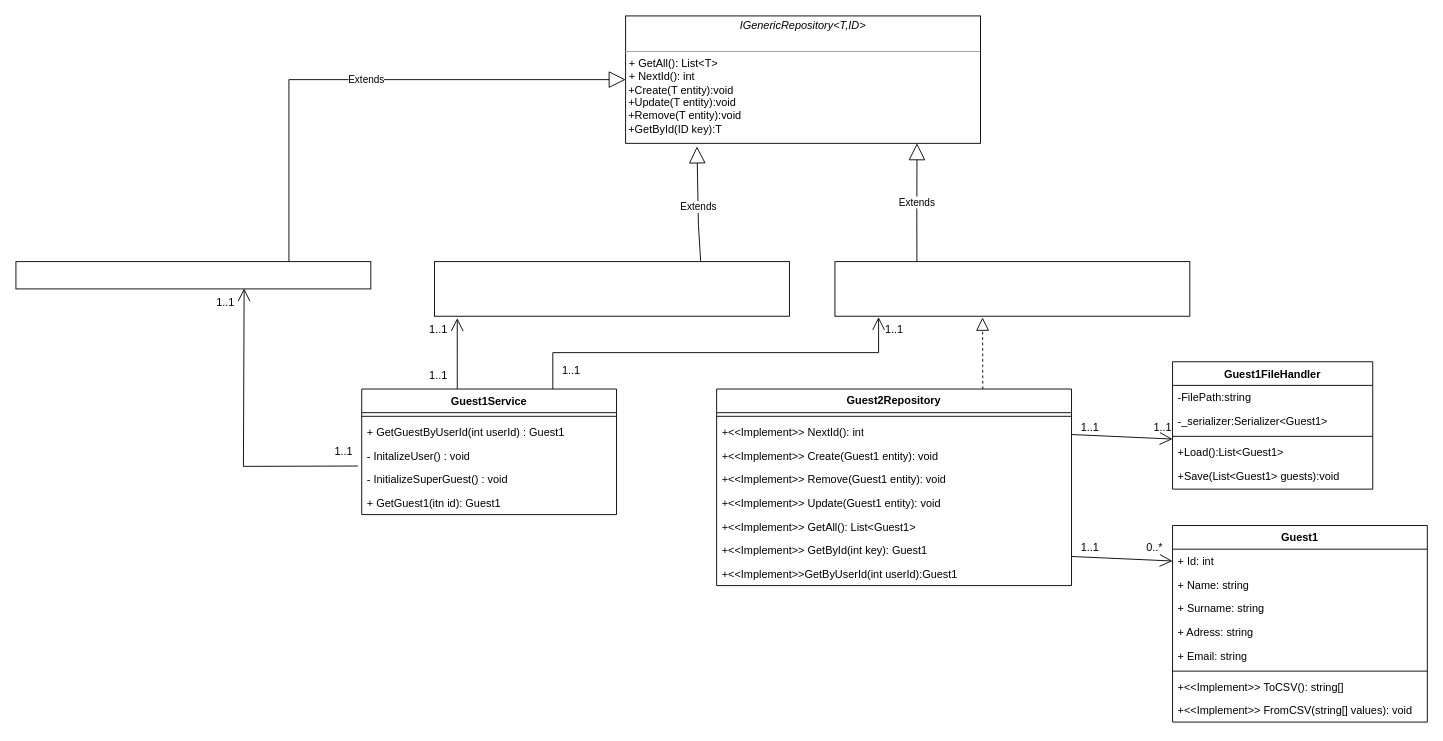
This 1443x741 diagram has some shape labels left out. The shapes that lost their labels are listed below. From the top down, each one's centre as x and y in pixels, then its label:
[193,275]: ISuperGuestRepository
[611,288]: IUserRepository + GetByUsername(string username) : User
[1012,288]: IGuest1Repository + GetByUserId(int userId) : Guest1
